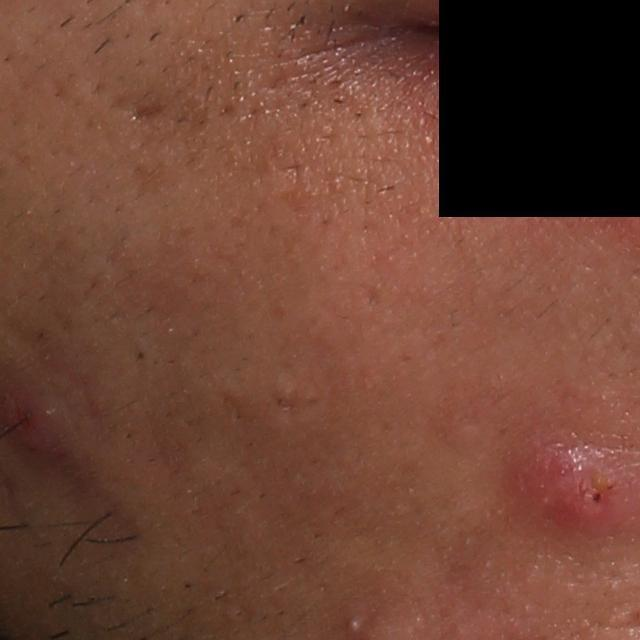atrophic_scar: (86, 72, 196, 175)
comedo: (343, 614, 361, 631)
